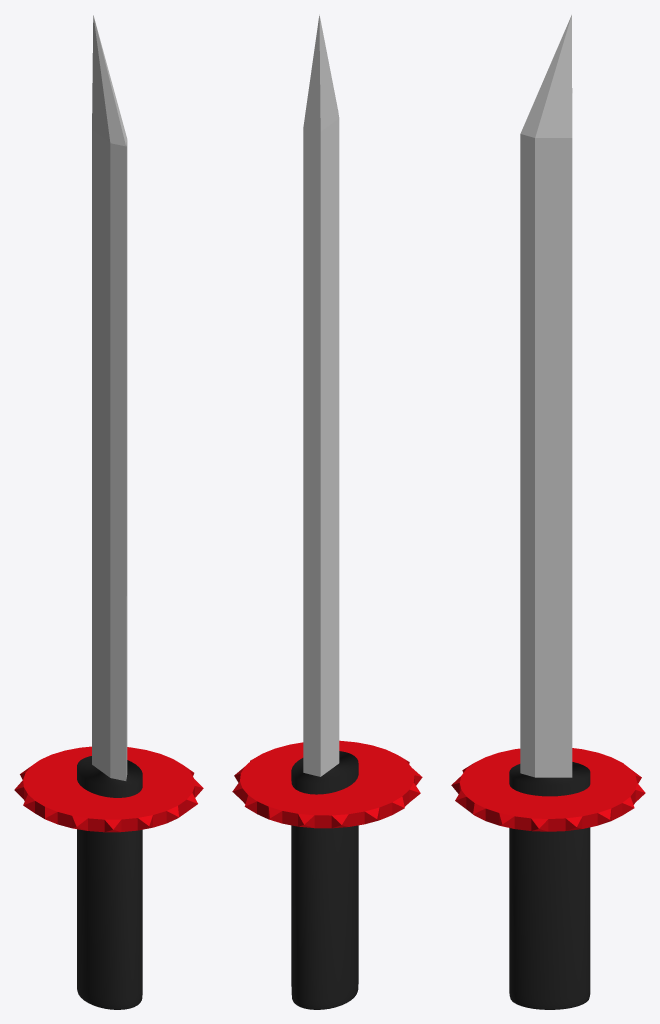
File: sword 1.fbx
3 renders of one model, left to right at view 1: azimuth 30°, elevation 25°; view 2: azimuth 150°, elevation 25°; view 3: azimuth 270°, elevation 25°, orthographic.
Parts seen in each view (by area): view 1: Cylinder.001; view 2: Cylinder.001; view 3: Cylinder.001.
Boxes of the visible parts, x1=… form: Cylinder.001: x1=14, y1=15, x2=203, y2=1009; Cylinder.001: x1=232, y1=14, x2=422, y2=1009; Cylinder.001: x1=451, y1=15, x2=645, y2=1009.
Bounding box in the file's own units: 176 × 1012 × 182.
